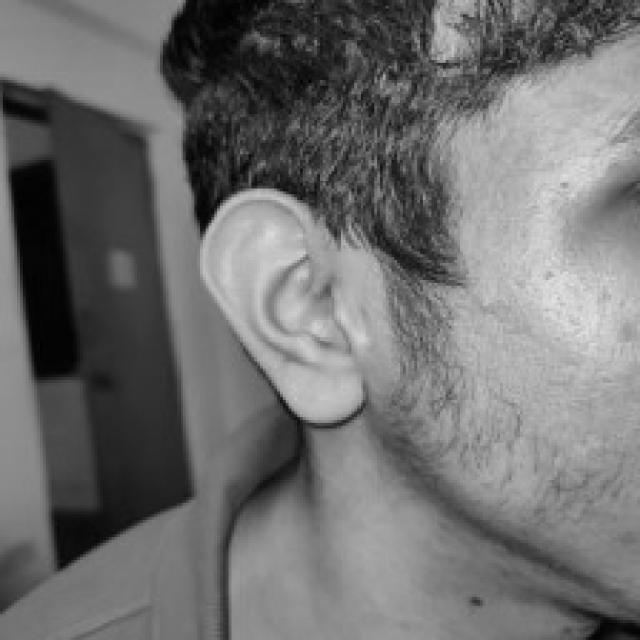ear: (200, 186, 360, 420)
